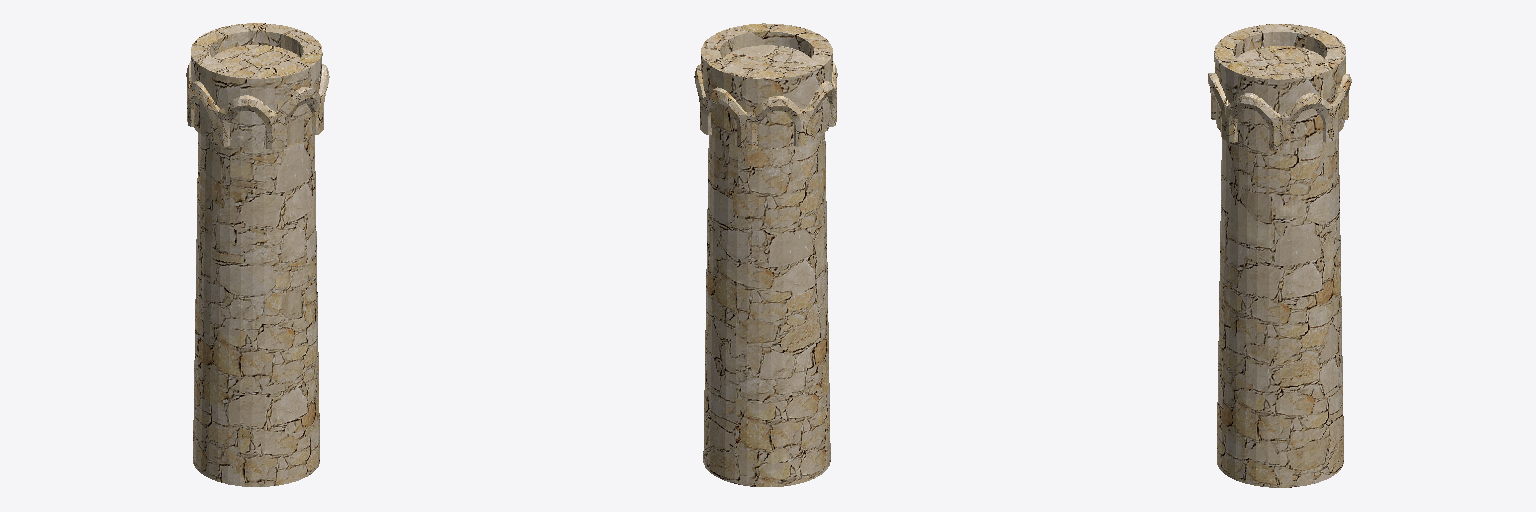
3 views of the same model, side by side, from view 1: azimuth 30°, elevation 25°; view 2: azimuth 150°, elevation 25°; view 3: azimuth 270°, elevation 25° (orthographic).
Visible parts, largest first — view 1: Tower.008_TowerMesh.008, TowerTop.008_TowerTopMesh.009, Arches.008_ArchesMesh.008; view 2: Tower.008_TowerMesh.008, TowerTop.008_TowerTopMesh.009, Arches.008_ArchesMesh.008; view 3: Tower.008_TowerMesh.008, TowerTop.008_TowerTopMesh.009, Arches.008_ArchesMesh.008.
Part boxes in pixels (x1,y1,x2,y2): Tower.008_TowerMesh.008: (193,133,319,486); TowerTop.008_TowerTopMesh.009: (191,23,322,147); Arches.008_ArchesMesh.008: (186,61,329,149); Tower.008_TowerMesh.008: (703,133,830,486); TowerTop.008_TowerTopMesh.009: (701,23,832,147); Arches.008_ArchesMesh.008: (694,61,837,149); Tower.008_TowerMesh.008: (1217,136,1343,487); TowerTop.008_TowerTopMesh.009: (1214,24,1345,147); Arches.008_ArchesMesh.008: (1208,73,1351,150).
Size of the model in its own units: 11.01 by 35 by 11.17.
Materials: 3 (1 with a texture image).